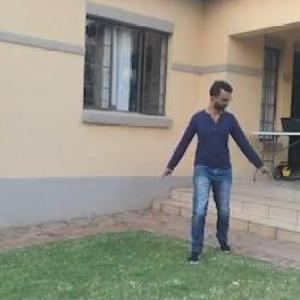land: (140, 63, 272, 278)
